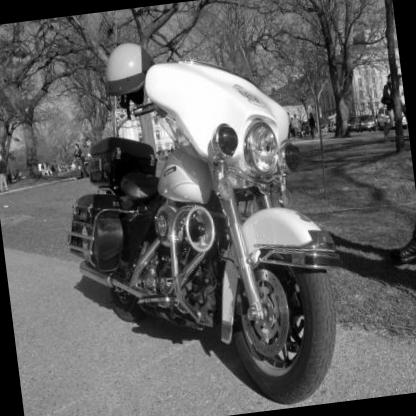moto: (35, 23, 379, 416)
